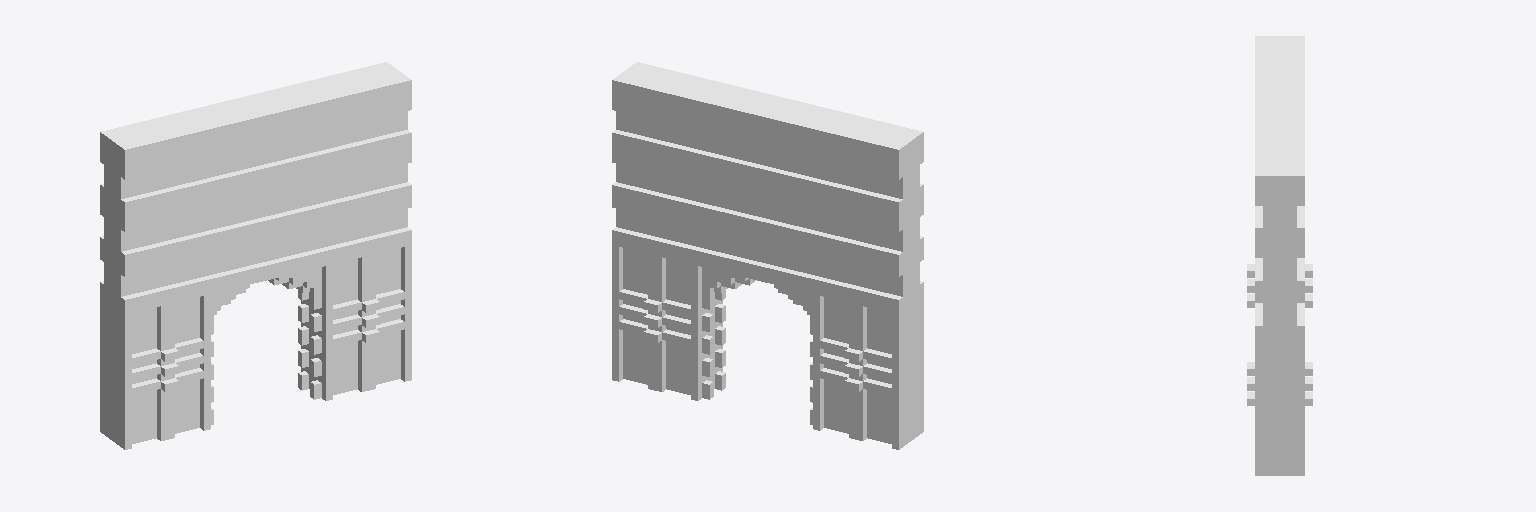
Rendered from DoorOpen2.obj.
The picture shows the model from 3 angles: view 1: azimuth 30°, elevation 25°; view 2: azimuth 150°, elevation 25°; view 3: azimuth 270°, elevation 25°; orthographic projection.
Visible parts, largest first — view 1: object 1; view 2: object 1; view 3: object 1.
Boxes of the visible parts, box(x1,y1,x2,y2) form: object 1: box(100, 62, 411, 449); object 1: box(612, 62, 923, 449); object 1: box(1247, 36, 1312, 475).
Size of the model in its own units: 4 by 4 by 0.8.